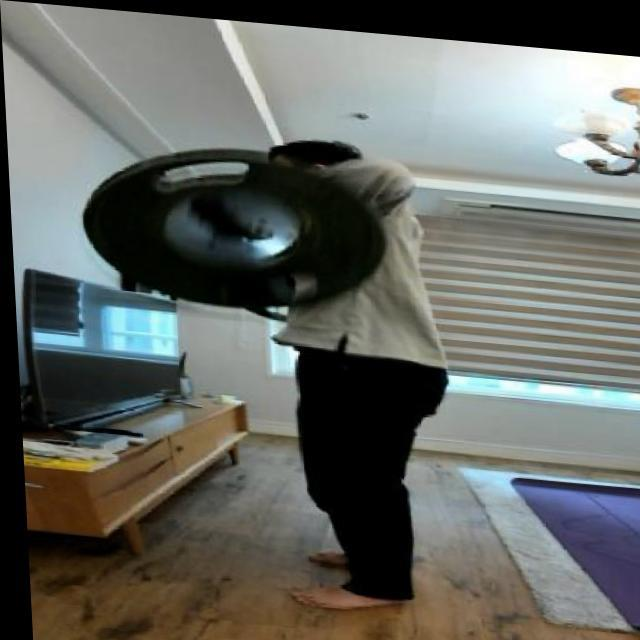barbell: (72, 129, 393, 318)
